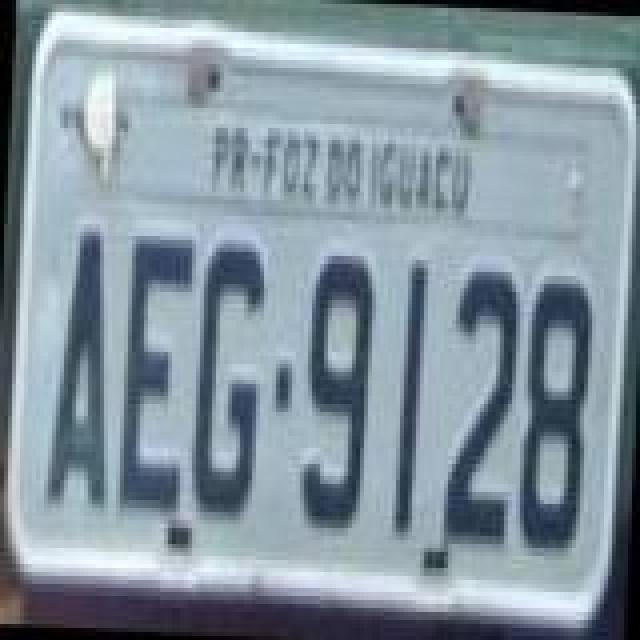1: (388, 254, 428, 546)
2: (438, 264, 522, 552)
8: (512, 274, 592, 558)
9: (296, 250, 376, 534)
A: (42, 224, 118, 512)
E: (116, 228, 196, 516)
G: (190, 236, 266, 516)
